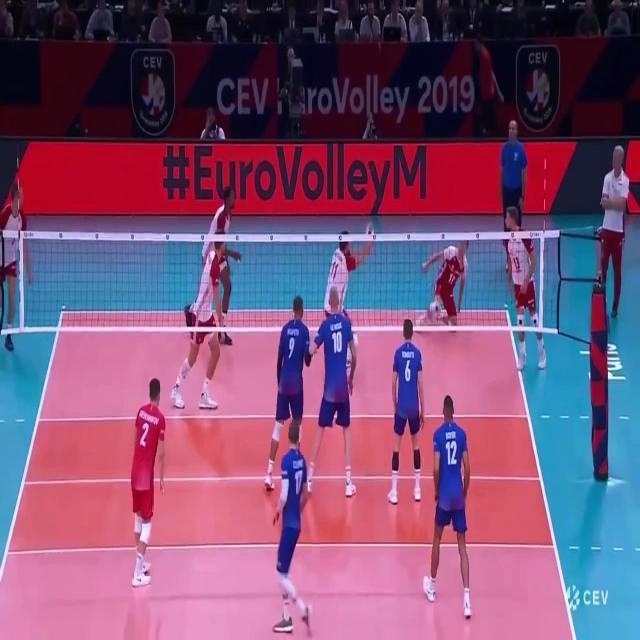volleyball: (365, 223, 378, 246)
